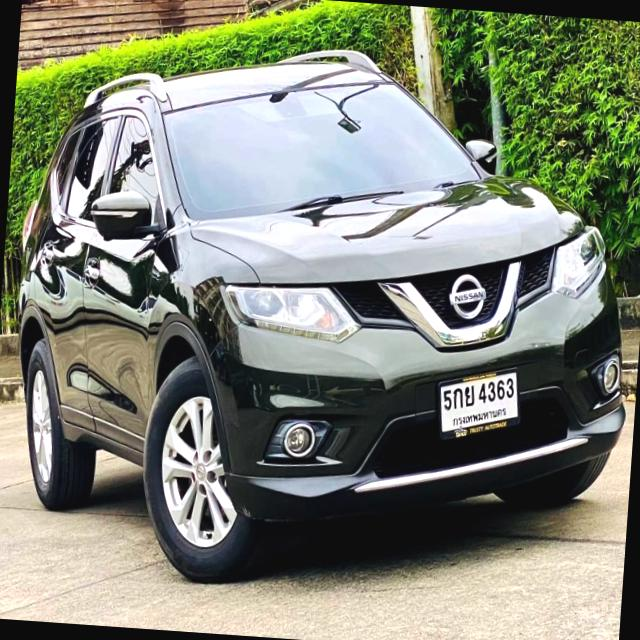license_plate: (429, 359, 524, 444)
